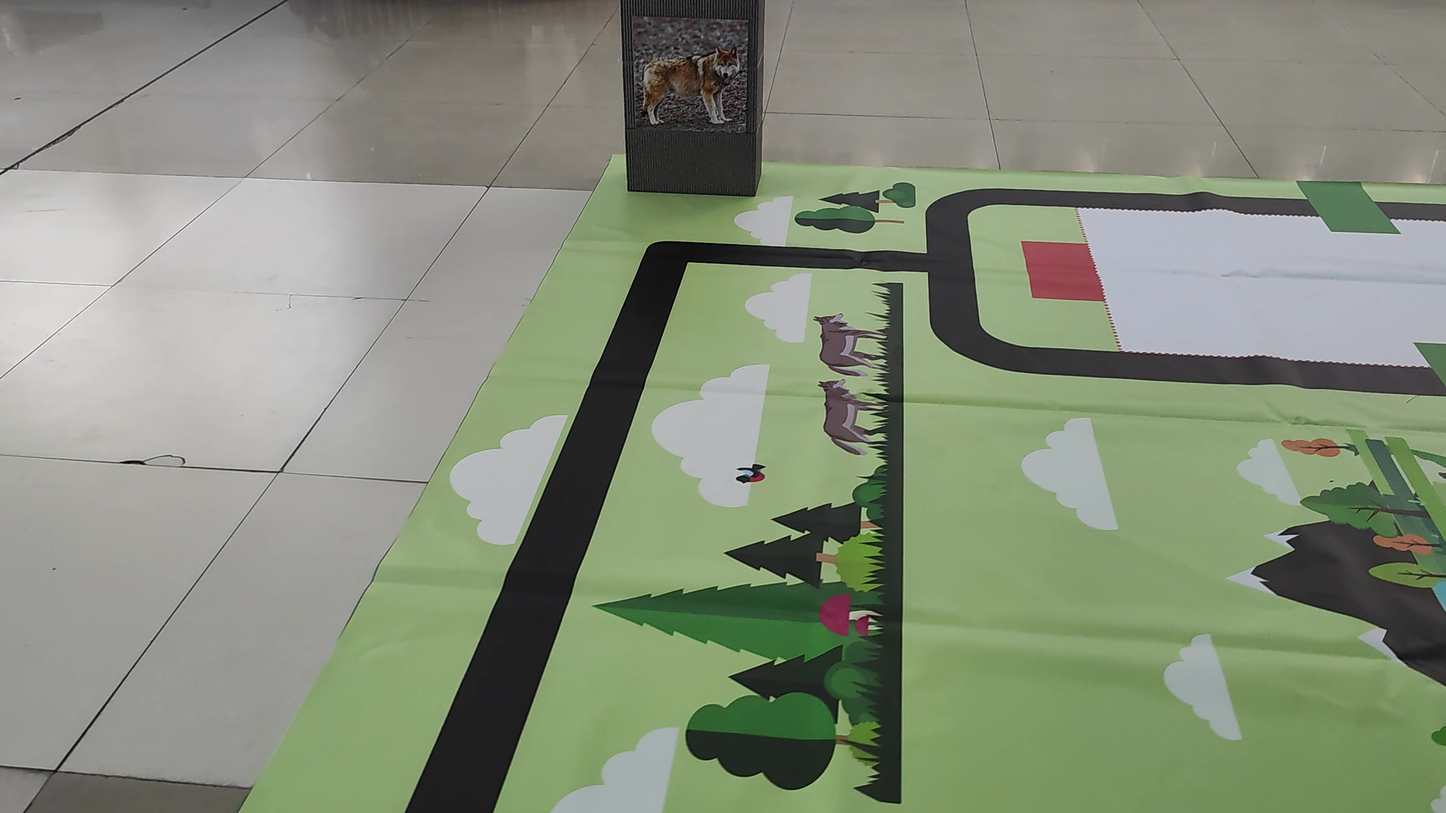wolf: (628, 20, 749, 138)
